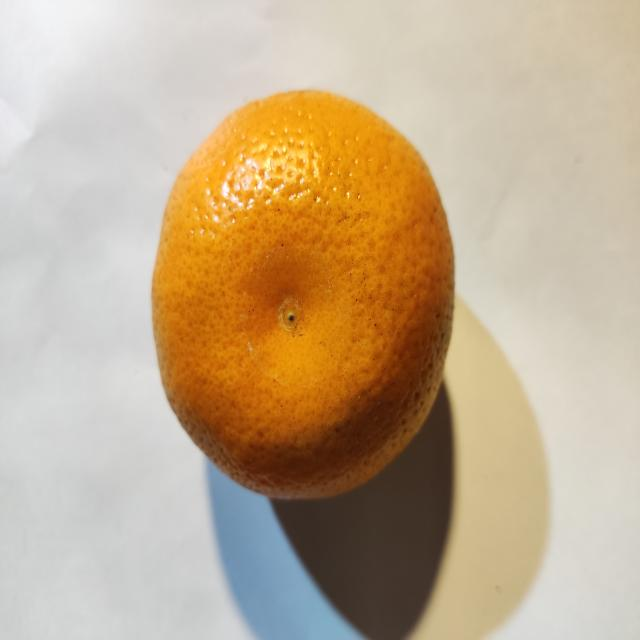orange: (153, 92, 453, 497)
